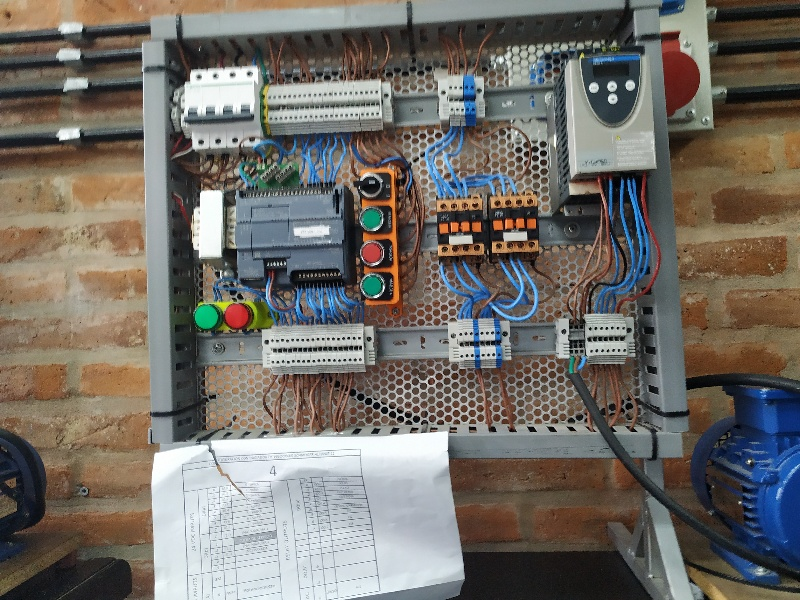Tablero 4: (158, 12, 663, 441)
